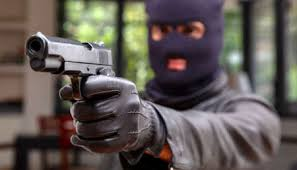gun: (26, 30, 128, 148)
